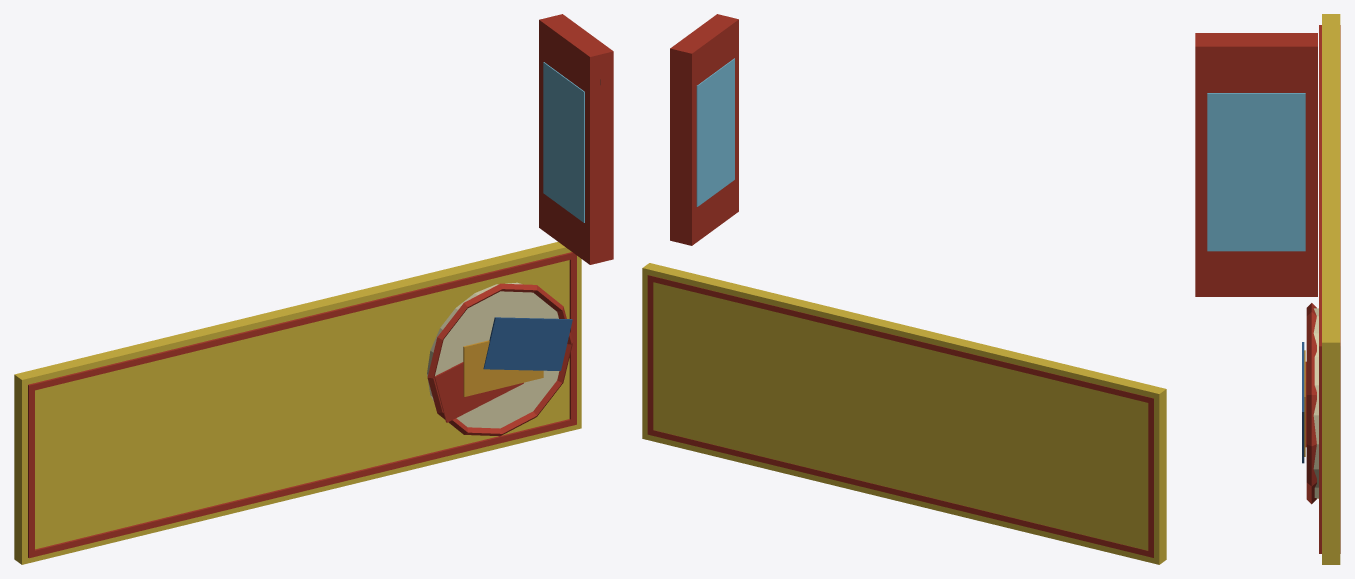
File: bang_dien_thoai_kim_ngan_40.glb
The picture shows the model from 3 angles, left to right: view 1: azimuth 30°, elevation 25°; view 2: azimuth 150°, elevation 25°; view 3: azimuth 270°, elevation 25°; orthographic projection. The views are drawn at different scales.
Parts seen in each view (by area): view 1: bang_dien_thoai_kim_ngan_40; view 2: bang_dien_thoai_kim_ngan_40; view 3: bang_dien_thoai_kim_ngan_40.
Boxes of the visible parts, x1,y1,x2,y2 form: bang_dien_thoai_kim_ngan_40: (14,14,613,564); bang_dien_thoai_kim_ngan_40: (642,14,1166,564); bang_dien_thoai_kim_ngan_40: (1195,14,1340,564).
Size of the model in its own units: 3.8 by 2.73 by 0.712.
